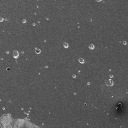corrosion: (1, 114, 37, 128), (105, 76, 116, 87), (114, 102, 124, 114), (34, 45, 42, 55), (12, 49, 20, 58), (88, 42, 96, 51), (62, 41, 70, 49), (77, 57, 86, 64), (31, 21, 37, 28), (71, 73, 77, 79), (5, 66, 11, 72), (5, 49, 10, 56), (122, 40, 128, 45), (21, 18, 26, 23), (108, 67, 112, 73), (86, 81, 90, 86), (44, 65, 49, 69), (1, 17, 4, 23), (2, 106, 6, 110), (73, 92, 77, 96)
